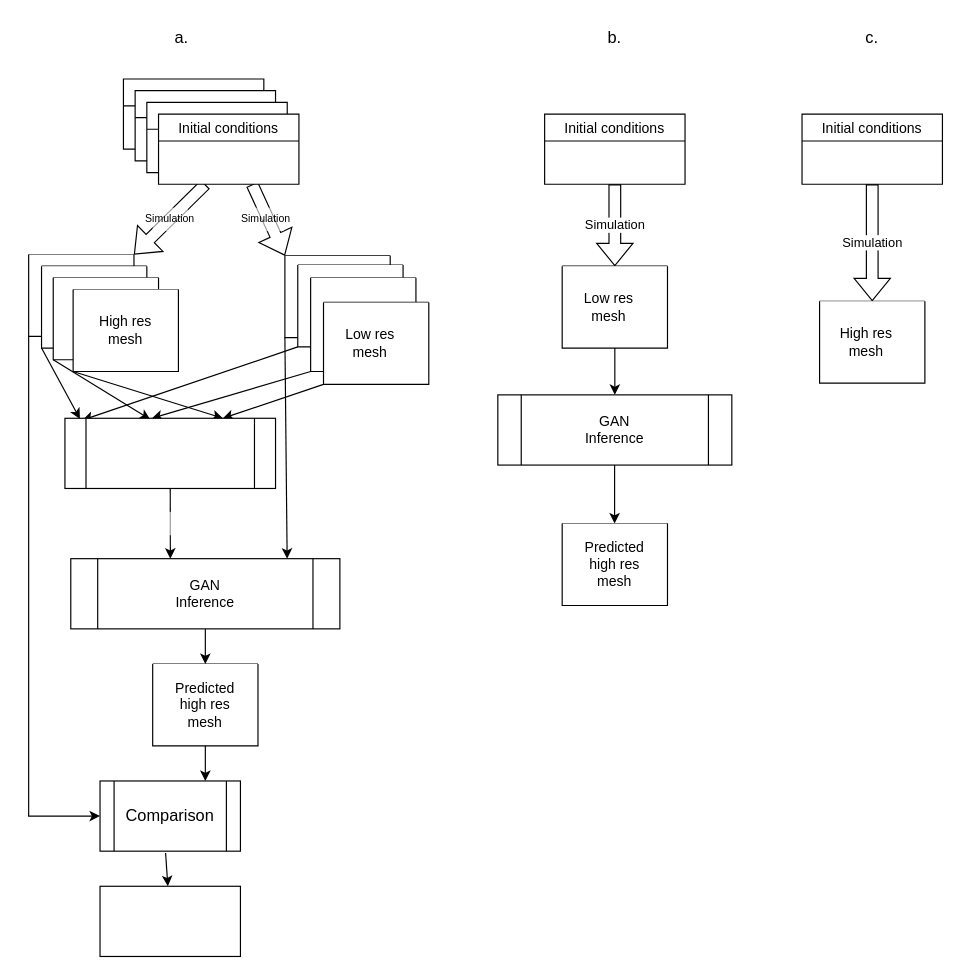
This 963x977 diagram has some shape labels left out. Here are the shapes that lost their labels. From the top down, the centre of each, then its label:
At point (170, 452): "GAN Training".
At point (169, 523): "Weights".
At point (169, 920): "Is superresolution technique valid?".
